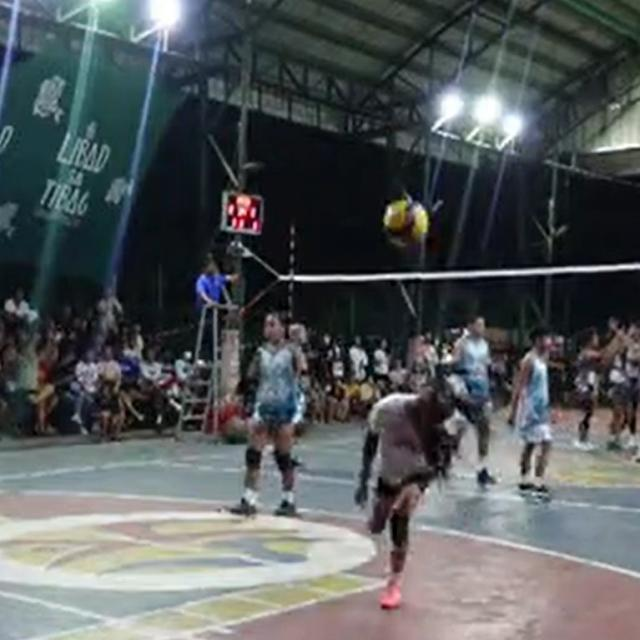volleyball: (382, 200, 428, 247)
